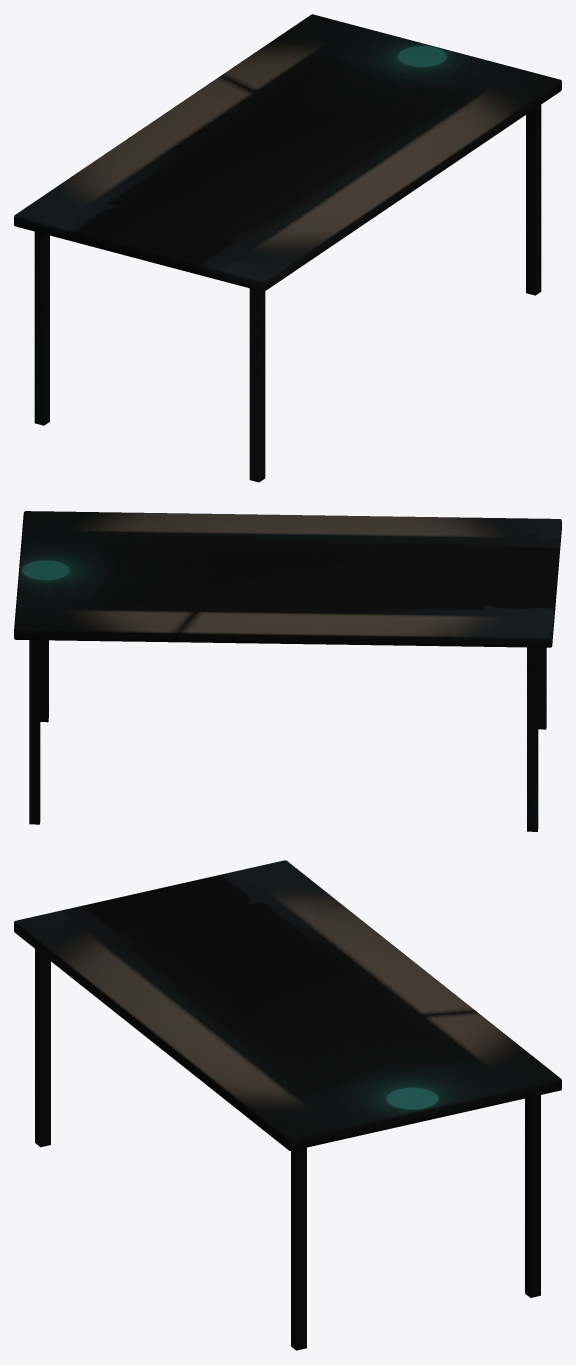
File: desk.glb
3 renders of one model, top to bottom at view 1: azimuth 30°, elevation 25°; view 2: azimuth 150°, elevation 25°; view 3: azimuth 270°, elevation 25°, orthographic. The views are drawn at different scales.
Visible parts, largest first — view 1: baked_desk; view 2: baked_desk; view 3: baked_desk.
Part boxes in pixels (x1,y1,x2,y2): baked_desk: [14, 14, 561, 482]; baked_desk: [14, 511, 561, 831]; baked_desk: [14, 860, 561, 1350].
Bounding box in the file's own units: 9.01 × 3.29 × 7.44.
1 material, 1 textured.
